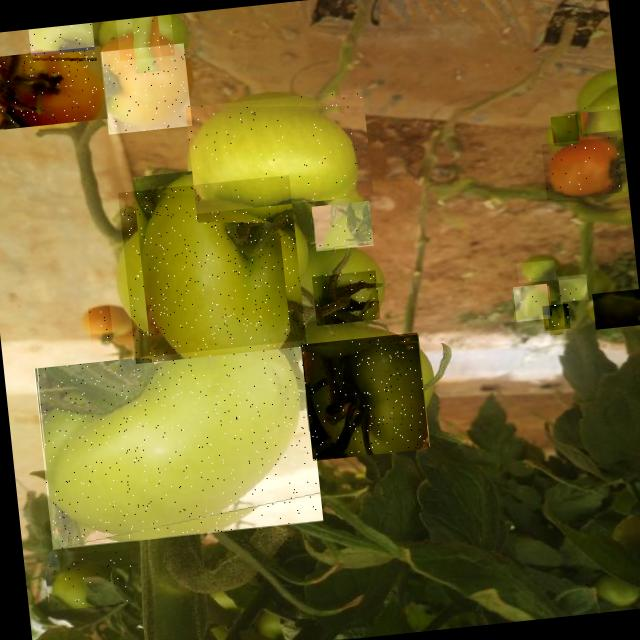Ripe Tomato: (34, 340, 324, 549), (0, 45, 107, 129), (100, 43, 192, 134), (541, 136, 622, 200)
Unripe Tomato: (118, 174, 306, 363), (185, 88, 373, 214), (300, 332, 429, 461), (43, 546, 134, 610), (311, 266, 380, 324), (312, 200, 374, 251), (116, 14, 174, 61), (28, 22, 94, 56), (591, 288, 640, 329), (513, 284, 550, 322), (584, 104, 619, 138), (87, 305, 113, 342), (558, 270, 588, 302), (516, 258, 556, 282), (550, 114, 580, 145), (542, 303, 570, 331)
